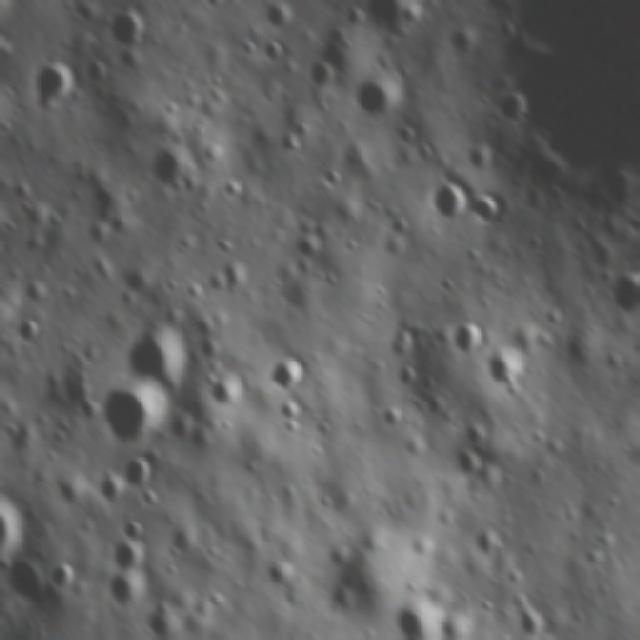crater: (124, 320, 194, 398), (101, 380, 176, 452), (25, 57, 86, 118), (146, 142, 202, 198), (350, 70, 404, 121), (483, 346, 528, 400), (492, 85, 536, 138), (107, 8, 156, 54), (429, 179, 473, 230), (208, 363, 249, 415), (267, 352, 310, 397), (470, 186, 512, 232), (106, 537, 154, 577), (389, 602, 438, 638), (288, 222, 328, 266), (91, 468, 131, 512), (609, 270, 640, 324), (444, 18, 482, 62), (107, 576, 148, 615), (450, 320, 488, 362), (448, 448, 490, 484), (274, 394, 312, 431), (46, 560, 82, 598), (512, 604, 554, 636), (474, 524, 509, 562), (304, 56, 338, 95), (16, 315, 50, 351), (262, 6, 298, 36), (260, 36, 288, 70)
